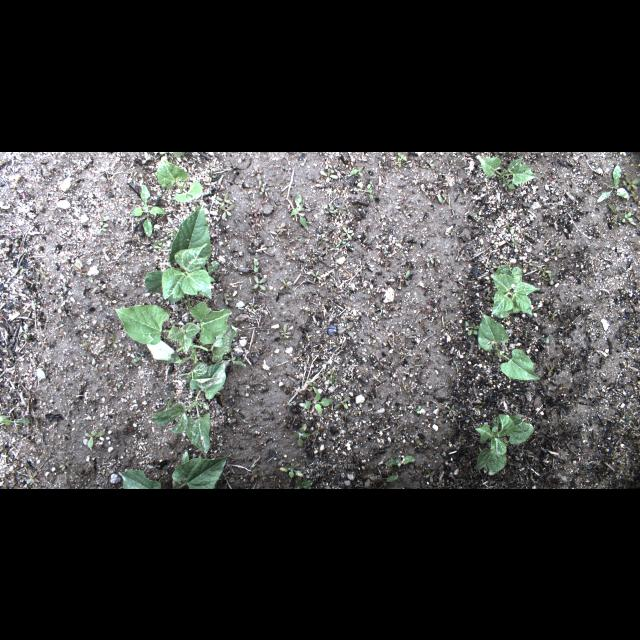crop: (115, 302, 241, 376), (144, 204, 216, 314), (147, 362, 225, 454), (477, 310, 539, 380), (476, 414, 534, 474), (486, 265, 540, 317), (472, 155, 538, 189), (172, 448, 228, 488), (155, 159, 203, 203), (117, 468, 163, 488)
weed: (131, 184, 167, 236), (597, 164, 629, 202), (300, 392, 334, 414), (290, 194, 308, 228), (323, 364, 343, 388), (385, 454, 417, 468), (1, 414, 30, 428), (292, 424, 310, 446), (84, 429, 106, 447), (278, 464, 304, 478), (359, 467, 377, 487), (318, 166, 340, 182), (220, 202, 236, 220), (464, 320, 481, 336), (252, 275, 268, 291), (622, 176, 640, 190), (214, 192, 230, 206), (338, 322, 354, 336), (278, 276, 294, 290), (334, 396, 351, 409), (293, 478, 313, 488), (398, 270, 412, 284), (342, 224, 354, 240), (280, 324, 290, 341), (546, 308, 558, 322), (109, 332, 119, 348), (310, 270, 322, 282), (621, 211, 633, 223), (26, 472, 38, 484), (306, 381, 318, 393), (424, 468, 434, 482), (350, 166, 364, 176), (152, 152, 186, 156), (251, 256, 259, 272), (276, 222, 288, 232), (270, 230, 282, 240), (385, 474, 399, 482), (58, 462, 68, 472), (328, 243, 339, 251), (318, 236, 328, 244), (416, 404, 422, 414)
